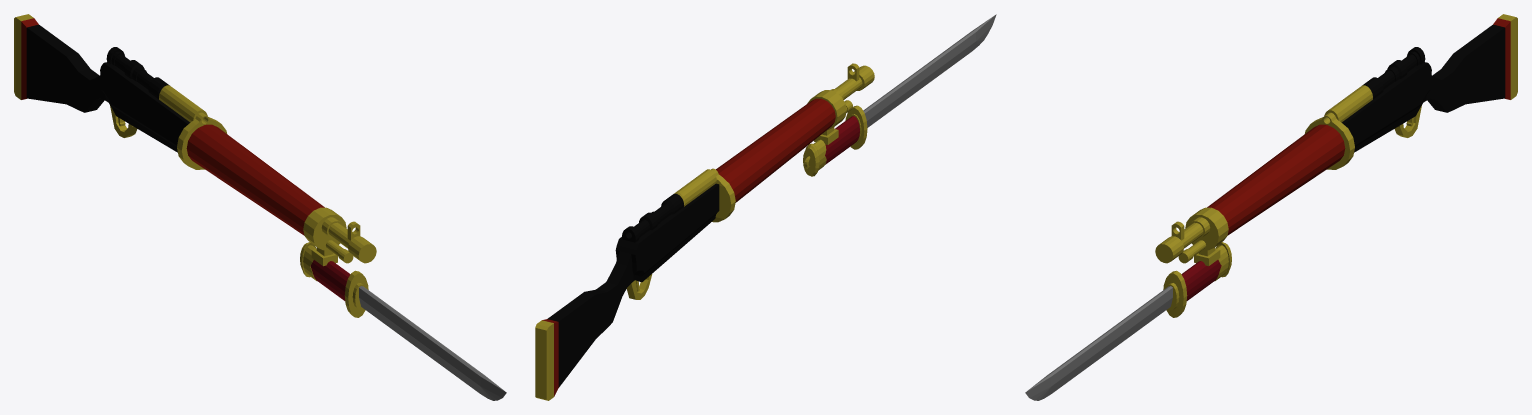
Rendered from wakamo.fbx.
3 renders of one model, left to right at view 1: azimuth 30°, elevation 25°; view 2: azimuth 150°, elevation 25°; view 3: azimuth 330°, elevation 25°, orthographic. The views are drawn at different scales.
Visible parts, largest first — view 1: body, flower, blade, muzzle, scope, scope.001, handle, handgd, back body gold, copula, back body red; view 2: body, flower, blade, muzzle, back body gold, scope, handle, scope.001, copula, sword back, handgd; view 3: body, flower, blade, muzzle, scope, scope.001, handle, handgd, back body gold, copula, back body red.
Boxes of the visible parts, x1=… form: body: x1=26, y1=24, x2=190, y2=152; flower: x1=186, y1=124, x2=324, y2=235; blade: x1=359, y1=286, x2=506, y2=400; muzzle: x1=303, y1=207, x2=376, y2=266; scope: x1=106, y1=47, x2=169, y2=99; scope.001: x1=159, y1=85, x2=210, y2=125; handle: x1=310, y1=260, x2=350, y2=300; handgd: x1=344, y1=270, x2=368, y2=317; back body gold: x1=14, y1=14, x2=33, y2=99; copula: x1=177, y1=117, x2=226, y2=169; back body red: x1=21, y1=18, x2=38, y2=99; body: x1=547, y1=183, x2=719, y2=387; flower: x1=716, y1=98, x2=835, y2=202; blade: x1=863, y1=14, x2=996, y2=127; muzzle: x1=807, y1=63, x2=874, y2=144; back body gold: x1=535, y1=320, x2=553, y2=400; scope: x1=622, y1=193, x2=684, y2=242; handle: x1=825, y1=116, x2=859, y2=164; scope.001: x1=674, y1=168, x2=718, y2=206; copula: x1=712, y1=174, x2=735, y2=222; sword back: x1=803, y1=139, x2=826, y2=176; handgd: x1=845, y1=105, x2=867, y2=149; body: x1=1341, y1=24, x2=1505, y2=152; flower: x1=1207, y1=124, x2=1345, y2=235; blade: x1=1025, y1=286, x2=1172, y2=400; muzzle: x1=1155, y1=207, x2=1228, y2=266; scope: x1=1362, y1=47, x2=1425, y2=99; scope.001: x1=1321, y1=85, x2=1372, y2=125; handle: x1=1181, y1=260, x2=1221, y2=300; handgd: x1=1163, y1=270, x2=1187, y2=317; back body gold: x1=1498, y1=14, x2=1517, y2=99; copula: x1=1305, y1=117, x2=1354, y2=169; back body red: x1=1493, y1=18, x2=1510, y2=99.
Size of the model in its own units: 161 by 378 by 2902.
